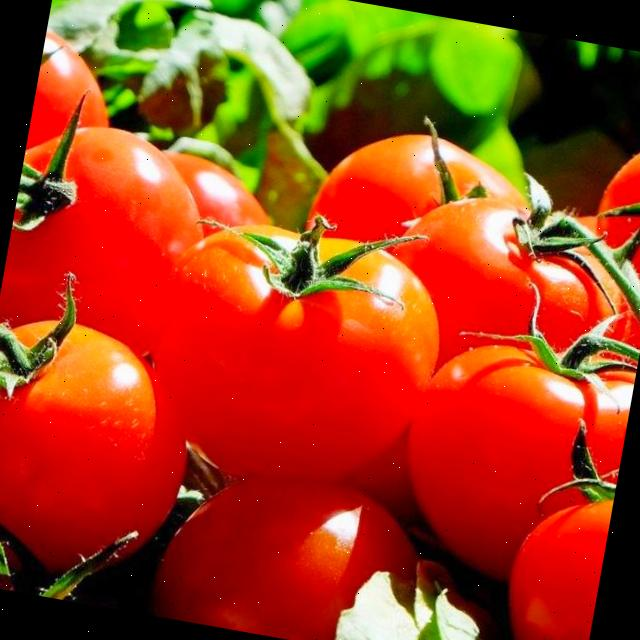tomato: (136, 193, 458, 490), (400, 279, 640, 584), (358, 131, 640, 377), (0, 303, 217, 594), (131, 459, 449, 640), (309, 98, 543, 290), (0, 452, 186, 617), (493, 434, 622, 640), (15, 16, 126, 224), (578, 78, 640, 301)
